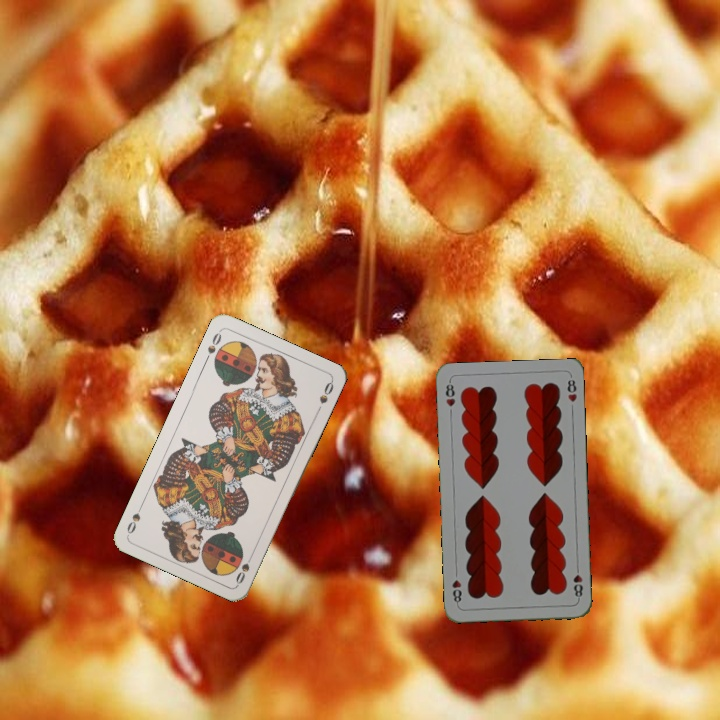H8: (569, 562, 585, 602), (442, 378, 458, 409)
SO: (232, 548, 256, 587), (201, 327, 224, 365)
